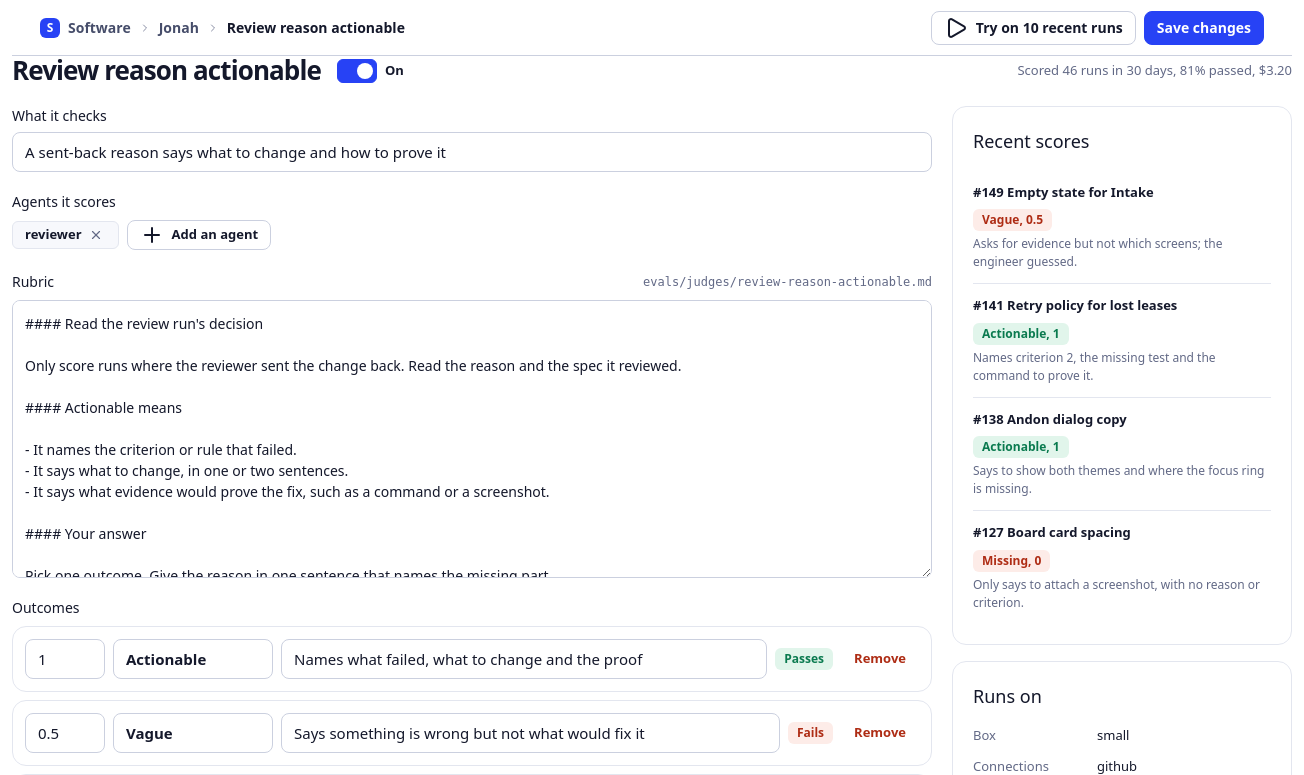
Test: editing and saving › shows a refused save in place and keeps the edits
Replace the text in the field labelled "What it checks" with "Changed". click: (472, 152)
box: [12, 132, 932, 172]
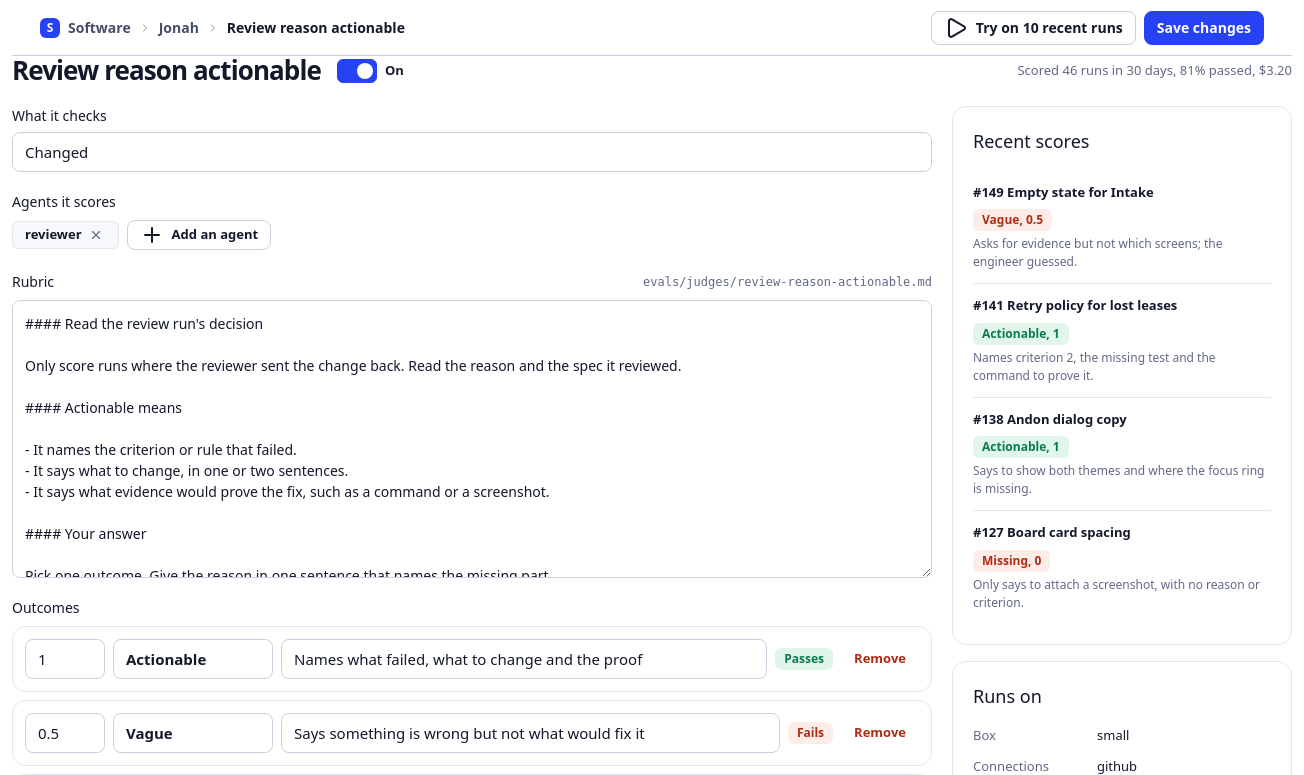
Click the button "Save changes". click: click(1204, 28)
box: [1144, 10, 1264, 44]
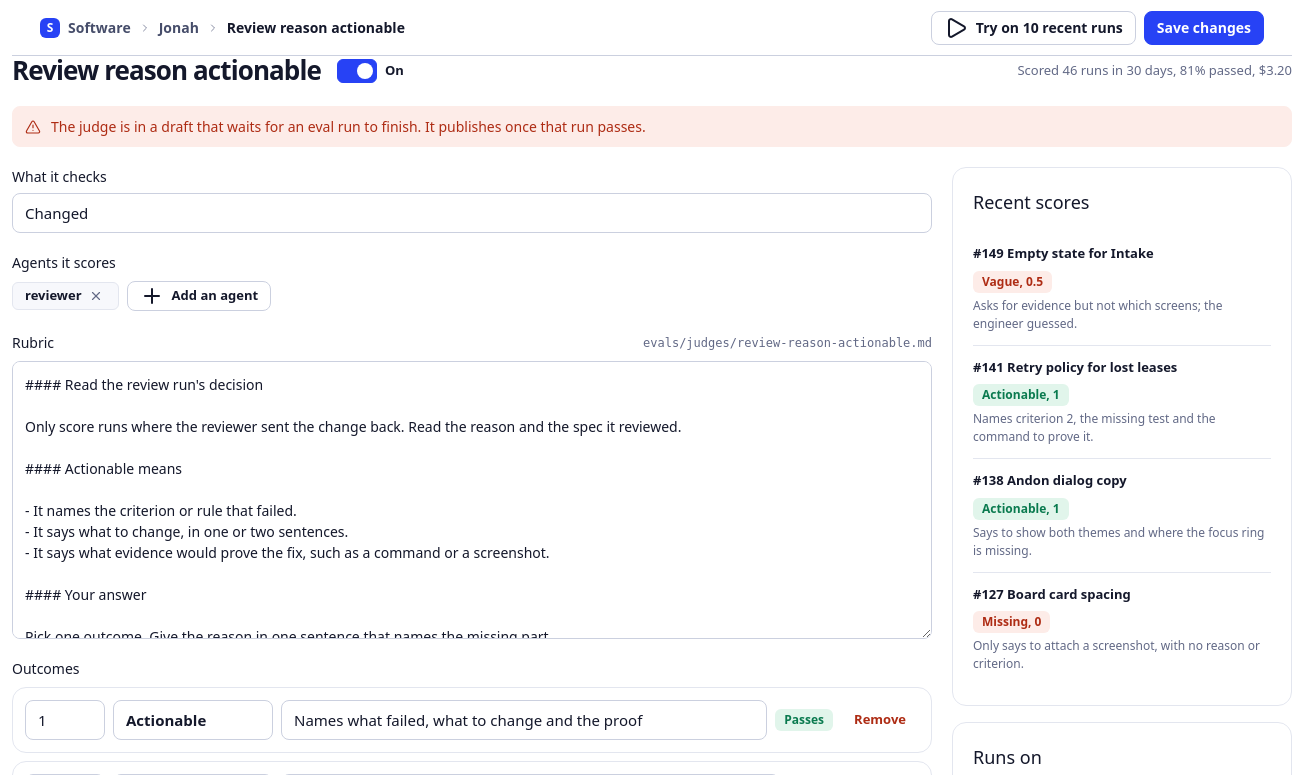
Check: the text "It publishes once that run passes" is shown, box [51, 117, 646, 136]
